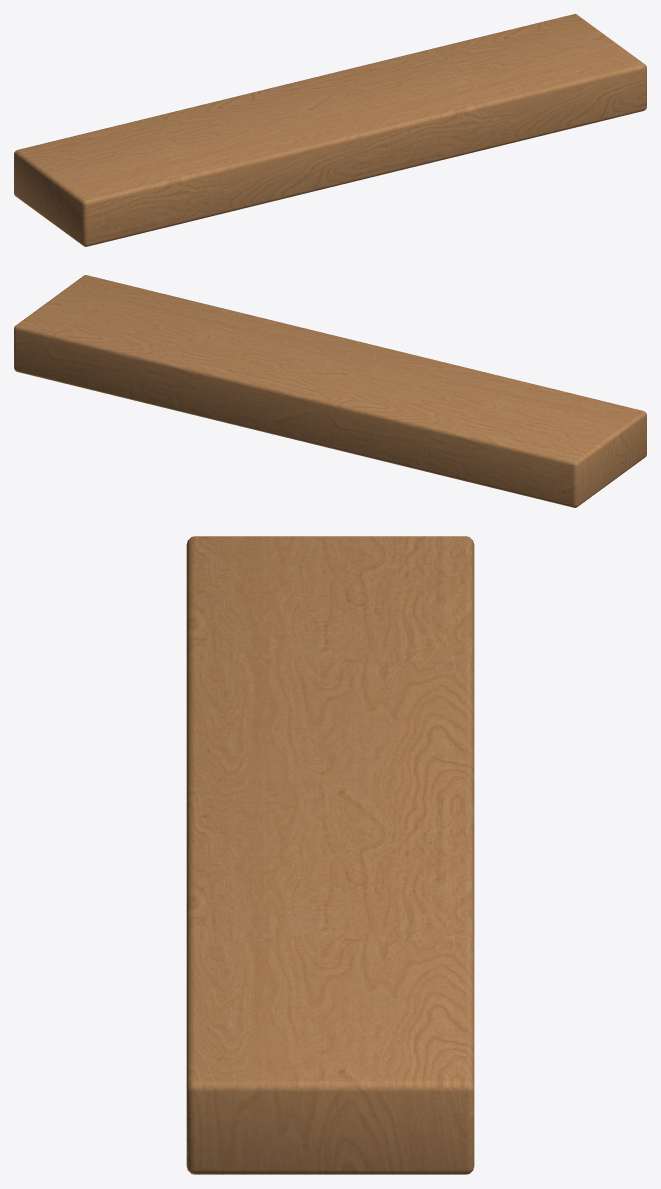
Rendered from TheMuraka_Int_TableTraySmall.fbx.
The picture shows the model from 3 angles, top to bottom: view 1: azimuth 30°, elevation 25°; view 2: azimuth 150°, elevation 25°; view 3: azimuth 270°, elevation 25°; orthographic projection. The views are drawn at different scales.
Parts seen in each view (by area): view 1: tray; view 2: tray; view 3: tray.
Part boxes in pixels (box(x1,y1,x2,y2)): tray: box(14, 14, 646, 246); tray: box(14, 275, 646, 507); tray: box(186, 536, 474, 1174).
Bounding box in the file's own units: 27.02 × 2.14 × 5.97.
